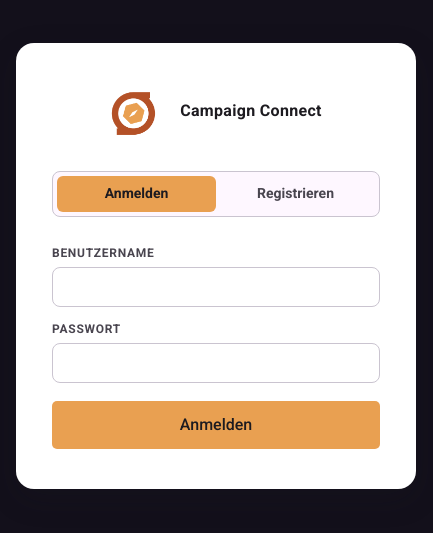
Login › show error box when fields are empty
Later steps or results of the test are not shown.
What coordinates should you click on to do the following:
click the button "Anmelden" below "Passwort"
I would click on:
 (216, 425)
Its box is [52,401,380,449].
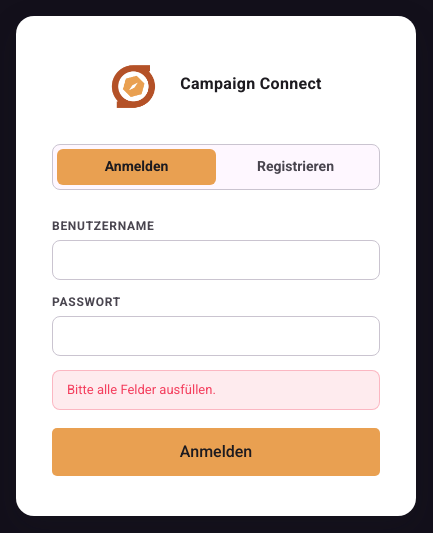
Expected: the text "Bitte alle Felder ausfüllen." is shown, [52,370,380,410]
